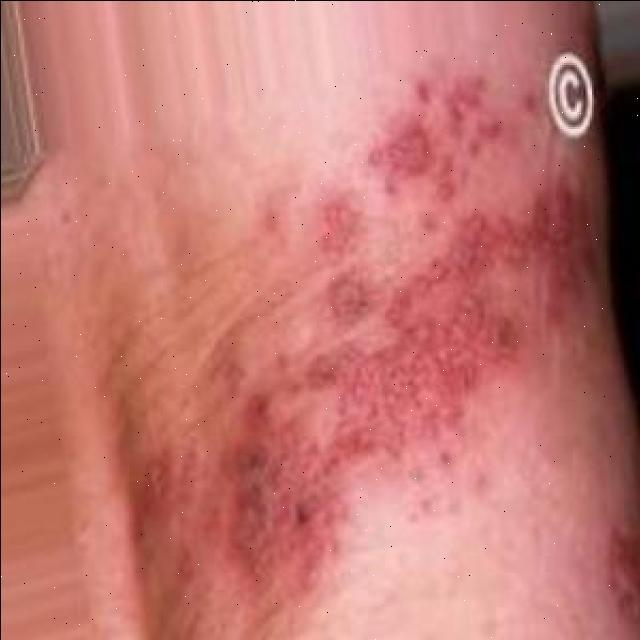Shingles: (224, 186, 594, 614), (368, 77, 501, 197)
